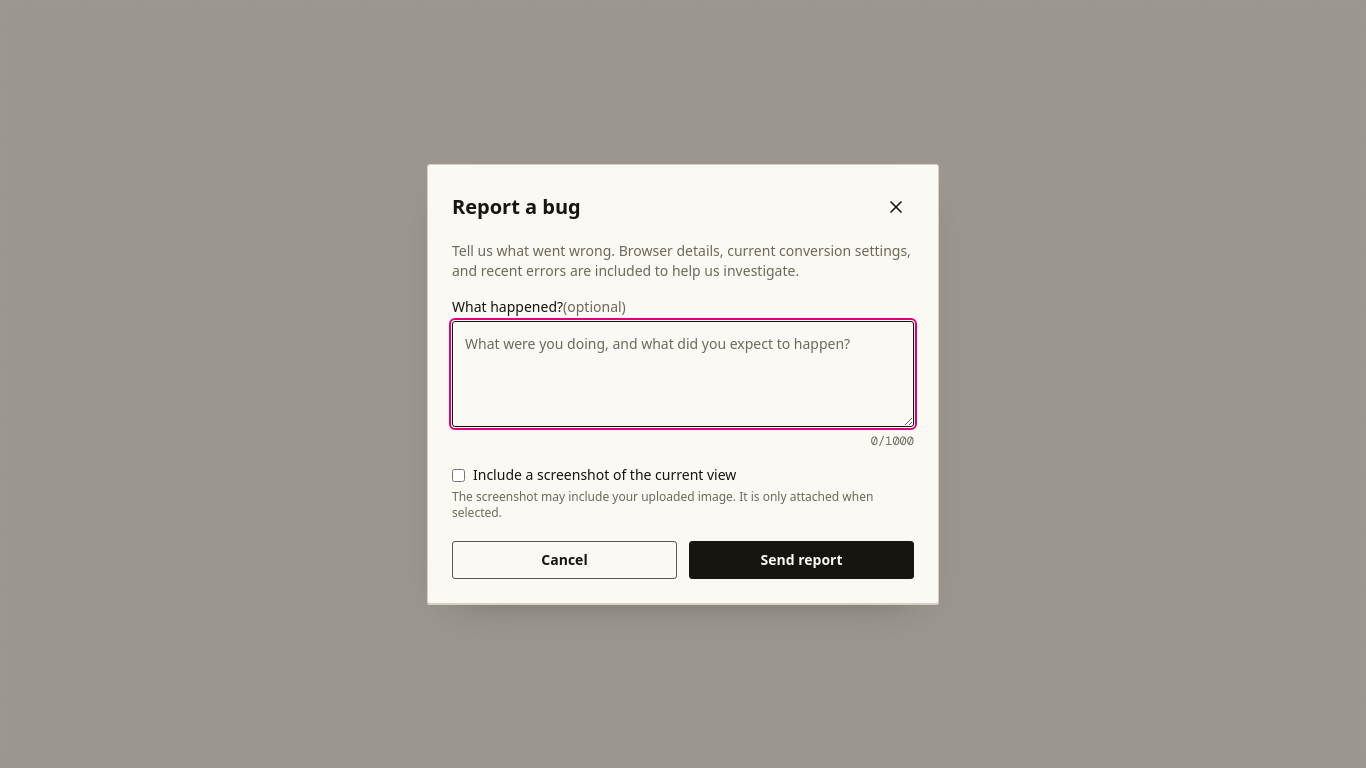
live localization boundaries › retains a feedback draft and screenshot choice while changing language
Type "我的自定义材料 Q has an issue" into the text box.
click(683, 374); type("我的自定义材料 Q has an issue")  # box [452, 321, 914, 427]
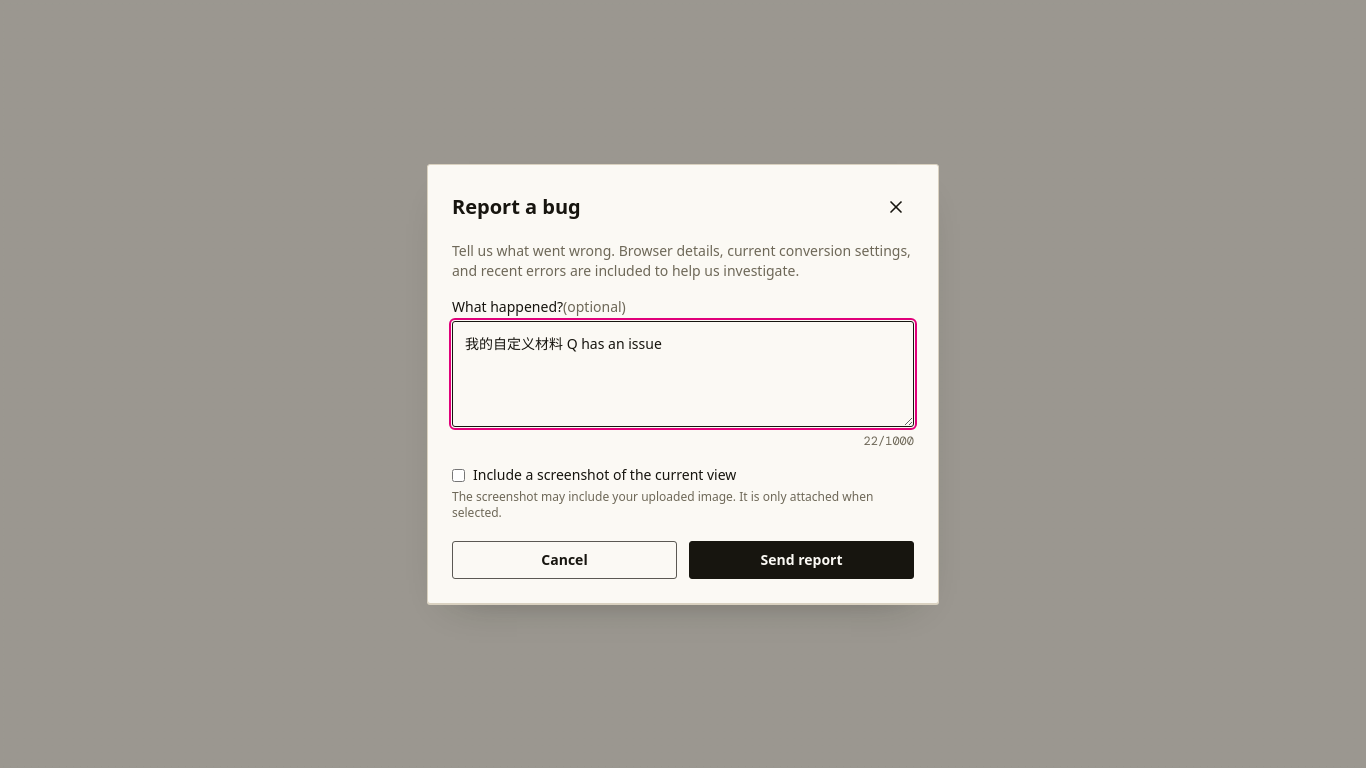
Click the checkbox.
click(458, 475)  # box [452, 468, 465, 482]
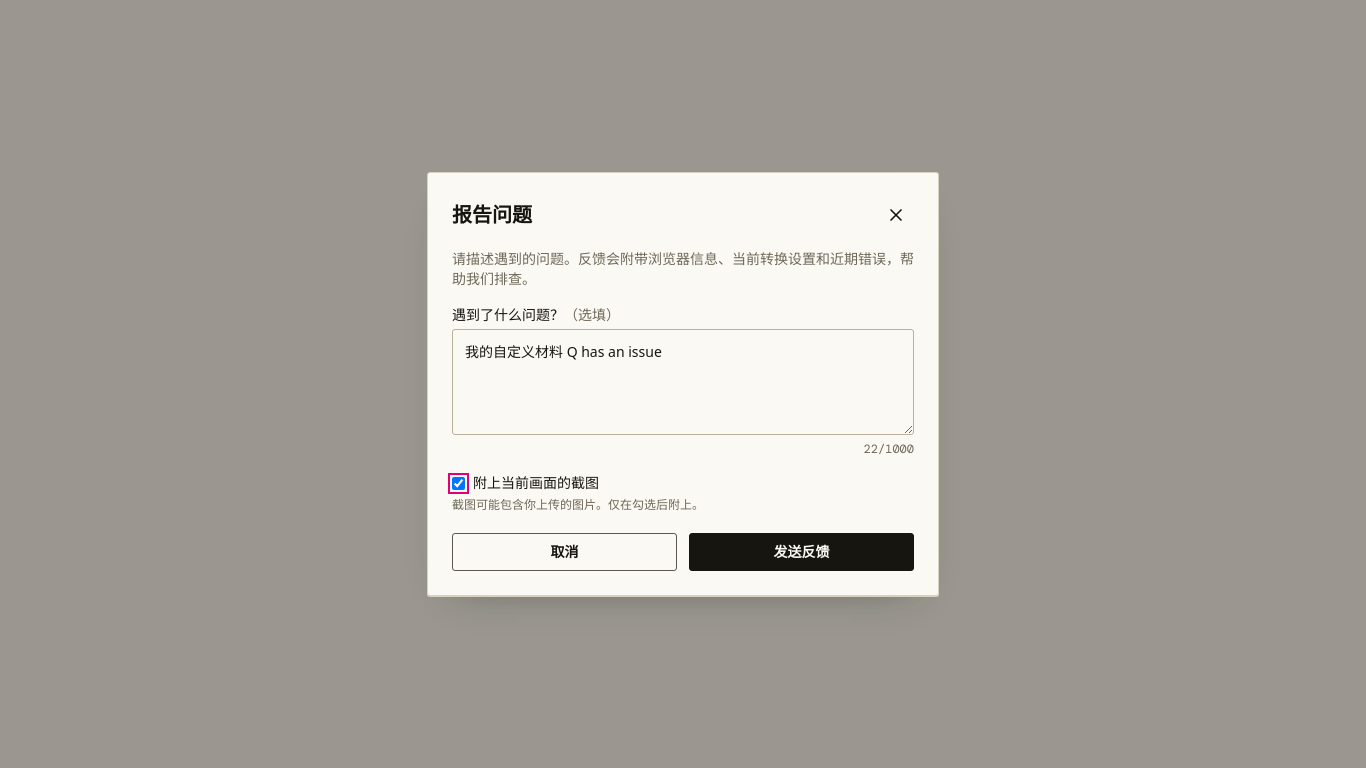
Expected: the checkbox is checked, [452, 476, 465, 490]
Expected: the button "发送反馈" is shown, [689, 533, 914, 571]
